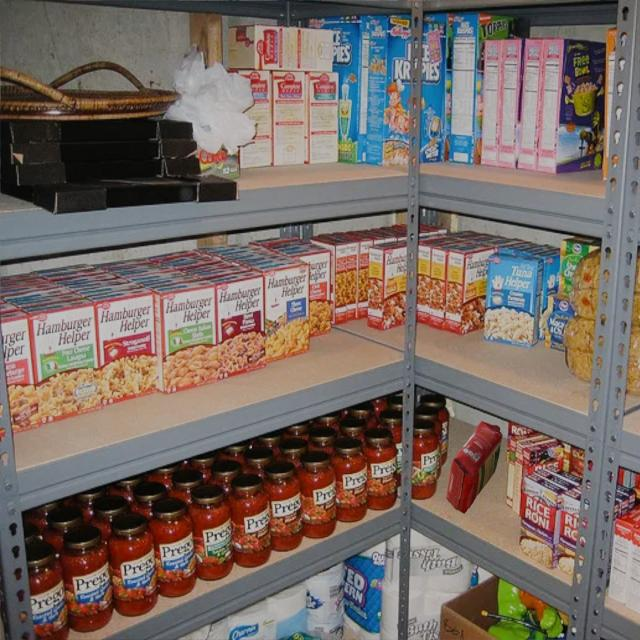mate bag: (445, 424, 504, 512)
